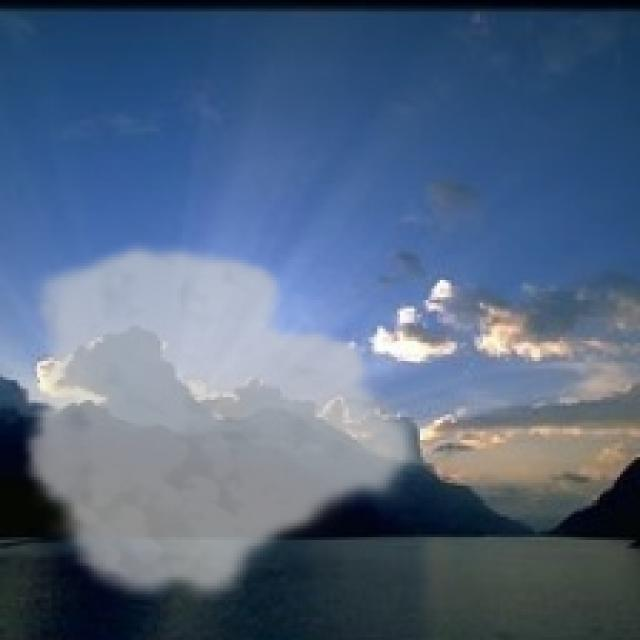Smoke: (20, 240, 429, 609)
